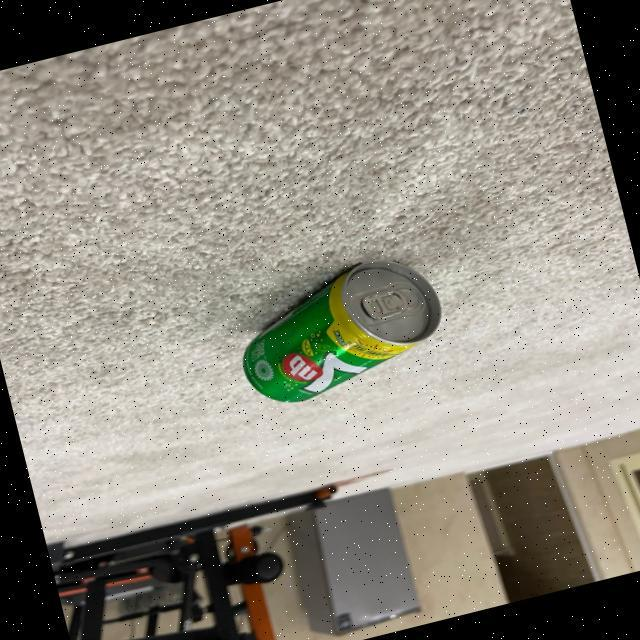debris: (226, 244, 456, 415)
